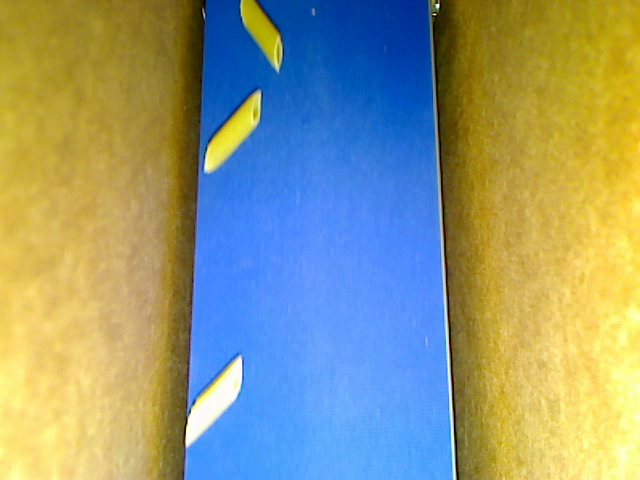penne: (185, 354, 242, 447), (204, 88, 262, 173), (238, 1, 283, 73)
